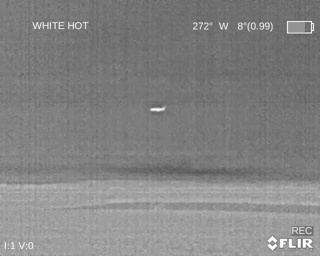AIRPLANE: (149, 104, 167, 114)
